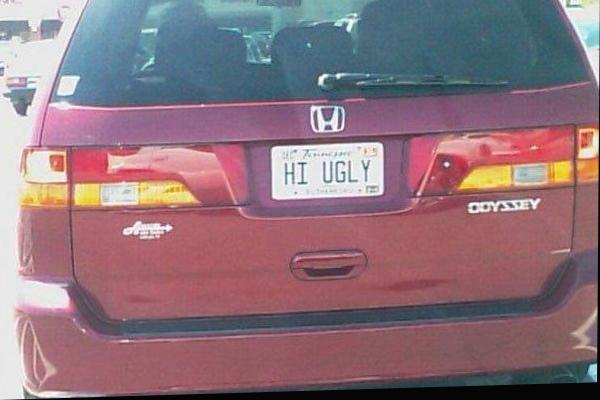License_Plate: (265, 137, 389, 204)
